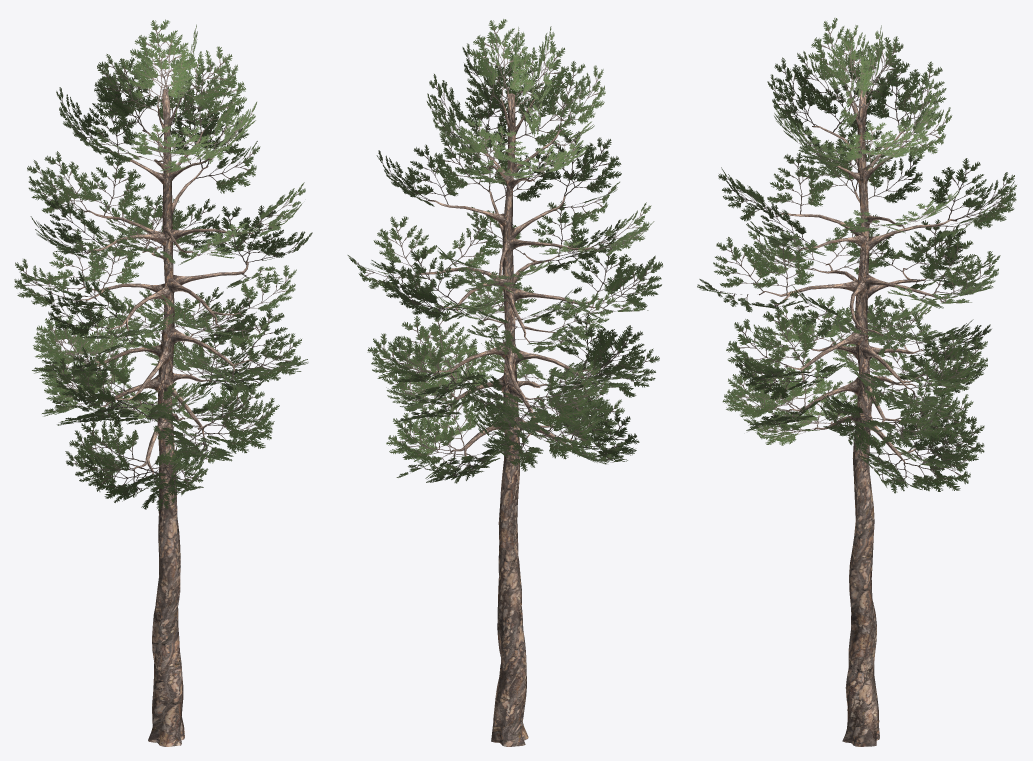
Rendered from pine_tree-opt.glb.
The picture shows the model from 3 angles, left to right: view 1: azimuth 30°, elevation 25°; view 2: azimuth 150°, elevation 25°; view 3: azimuth 270°, elevation 25°; orthographic projection.
Visible parts, largest first — view 1: Tree_1_Tree_1Mat_0, Tree_0_Tree_0Mat_0; view 2: Tree_1_Tree_1Mat_0, Tree_0_Tree_0Mat_0; view 3: Tree_1_Tree_1Mat_0, Tree_0_Tree_0Mat_0.
Boxes of the visible parts, x1=… form: Tree_1_Tree_1Mat_0: x1=14, y1=19, x2=312, y2=510; Tree_0_Tree_0Mat_0: x1=77, y1=88, x2=253, y2=746; Tree_1_Tree_1Mat_0: x1=347, y1=19, x2=662, y2=483; Tree_0_Tree_0Mat_0: x1=413, y1=88, x2=604, y2=746; Tree_1_Tree_1Mat_0: x1=697, y1=18, x2=1016, y2=493; Tree_0_Tree_0Mat_0: x1=759, y1=88, x2=956, y2=746.
Size of the model in its own units: 2.18 by 5.32 by 2.17.
Materials: 2 (2 with a texture image).
